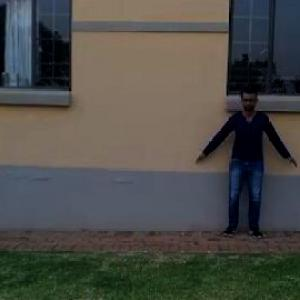land: (192, 86, 298, 248)
